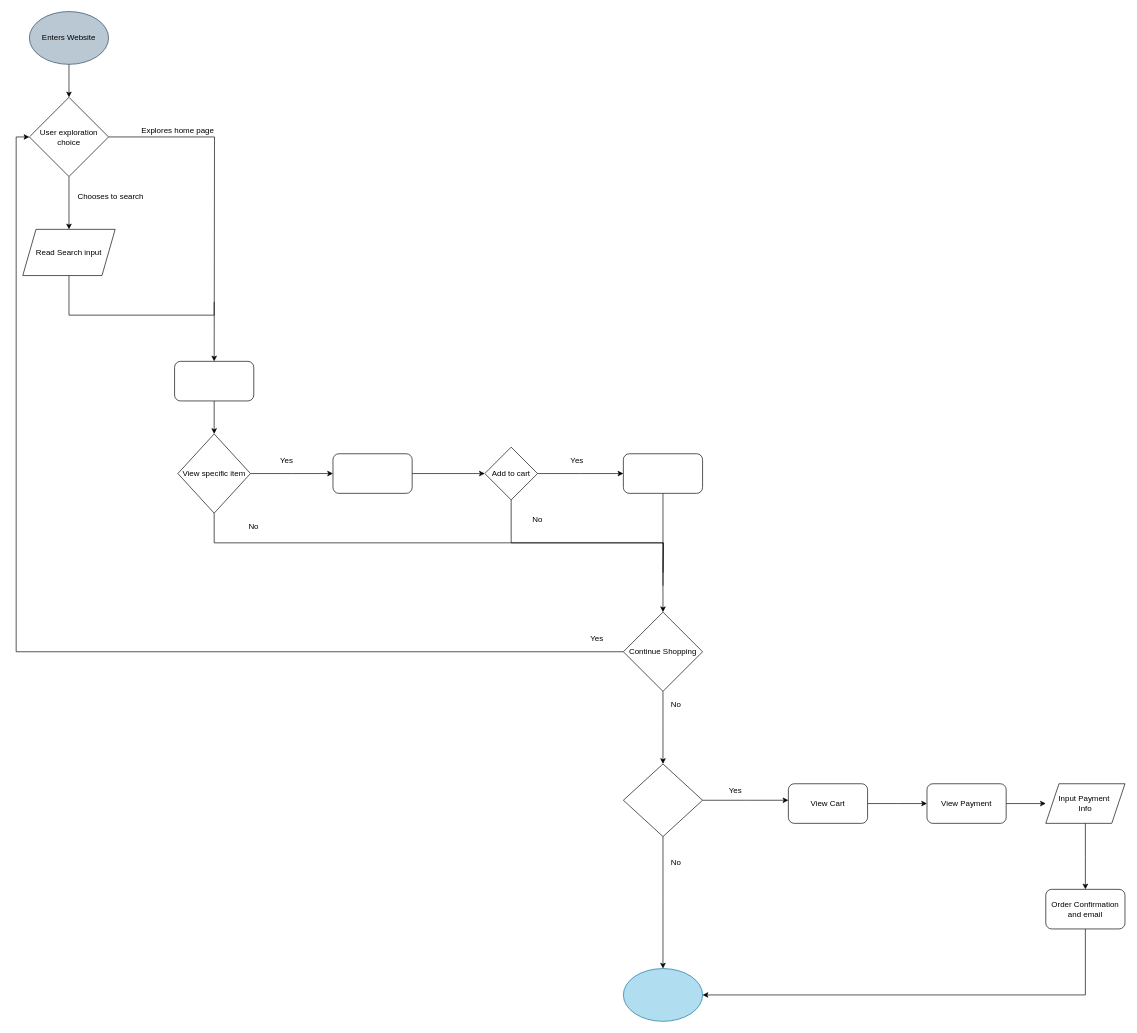
Some shapes in this 1137 by 1033 pixel diagram are drawn without their labels. The shapes that lost their labels are listed below. From the top down, each one's centre as x and y in pixels, then its label:
[214,381]: Browse Products
[372,473]: Product Webpage opens
[663,473]: Confirmation
[663,800]: Checkout
[663,994]: Leaves Website
